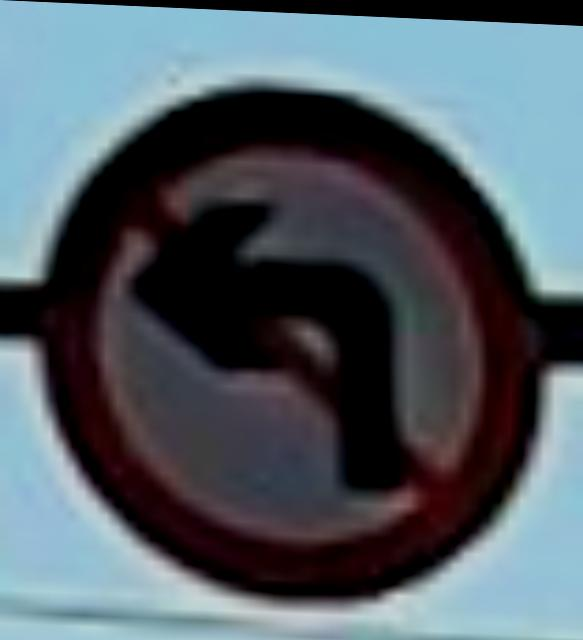not_turn_left: (35, 51, 549, 618)
